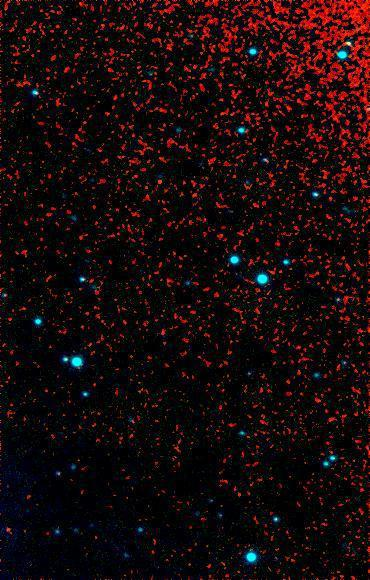star: (144, 167, 174, 197)
